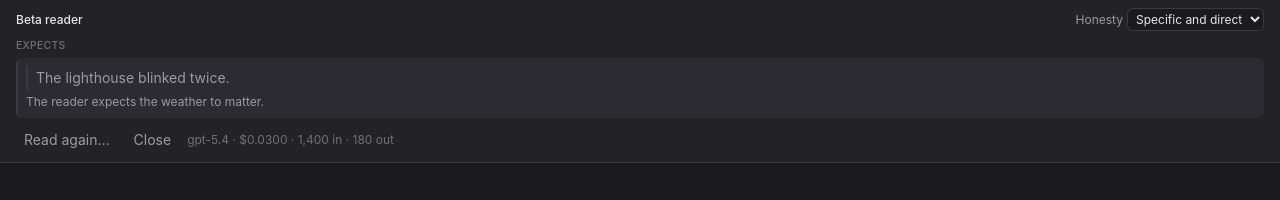
Test: BetaReaderPanel (F-14.11) › marks an item stale when its passage is gone from the scene
What coordinates should you click on to do the following:
click the button with test id "beta-reader-quote"
I would click on:
 (133, 77)
Its box is x1=26 y1=66 x2=1256 y2=90.
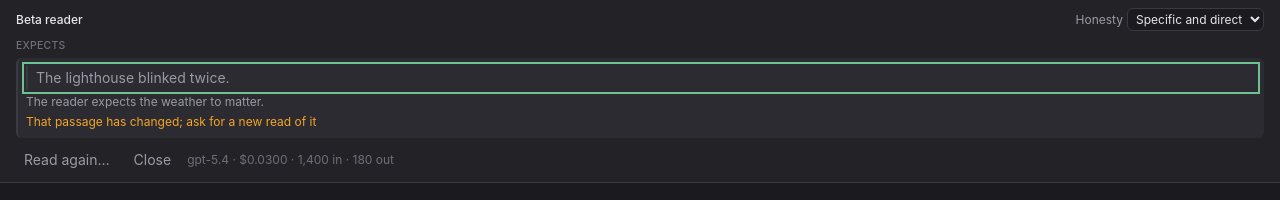
Check: the text with test id "beta-reader-stale" reads "That passage has changed; ask for a new read of it", box x1=26 y1=114 x2=316 y2=129
